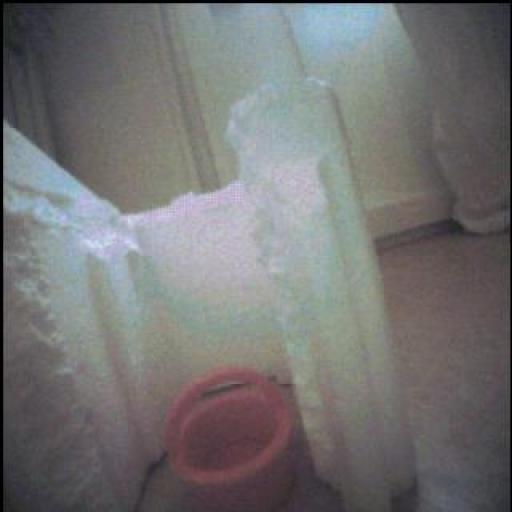Basket: (167, 369, 294, 512)
